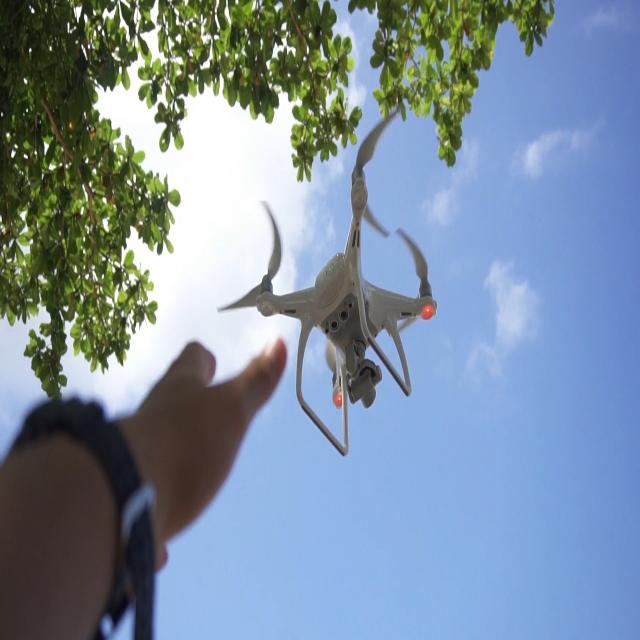Drone: (246, 128, 427, 444)
